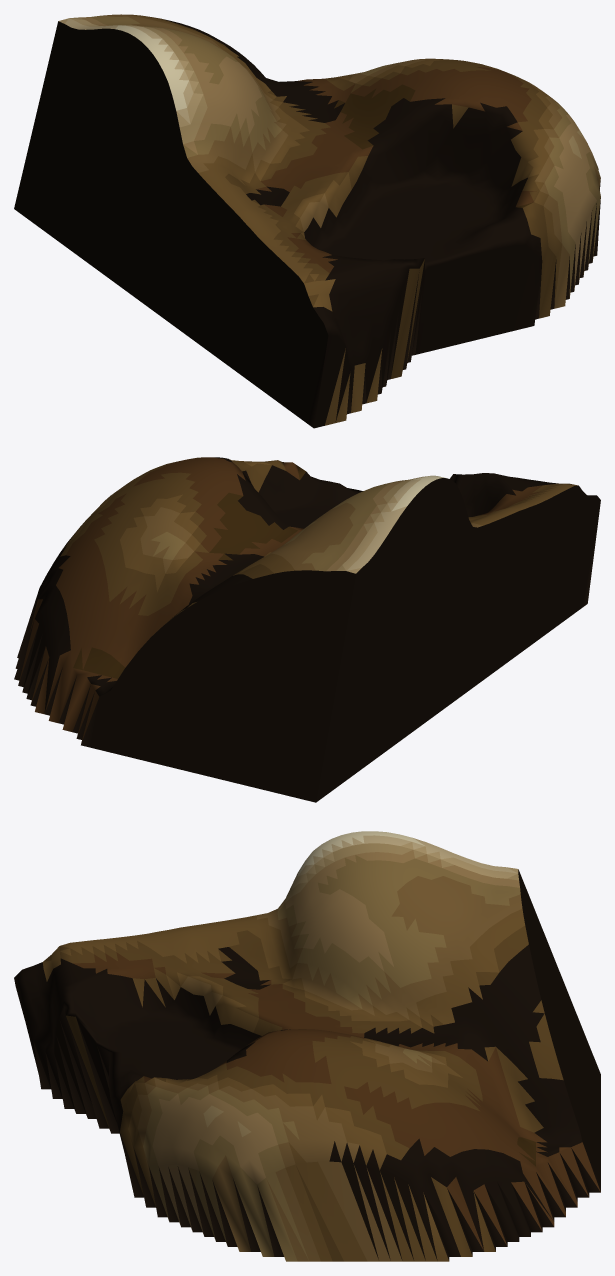
File: nose_tip_right.glb
3 views of the same model, one above another, from view 1: azimuth 30°, elevation 25°; view 2: azimuth 150°, elevation 25°; view 3: azimuth 270°, elevation 25° (orthographic). The views are drawn at different scales.
Parts seen in each view (by area): view 1: nose_tip_right; view 2: nose_tip_right; view 3: nose_tip_right.
Part boxes in pixels (bbox=[...]): nose_tip_right: bbox=[14, 14, 600, 428]; nose_tip_right: bbox=[14, 457, 600, 802]; nose_tip_right: bbox=[14, 831, 600, 1261].
Size of the model in its own units: 19 by 11.54 by 25.17.
